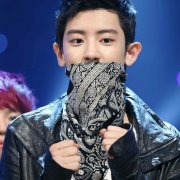face_mask: (62, 8, 124, 90)
